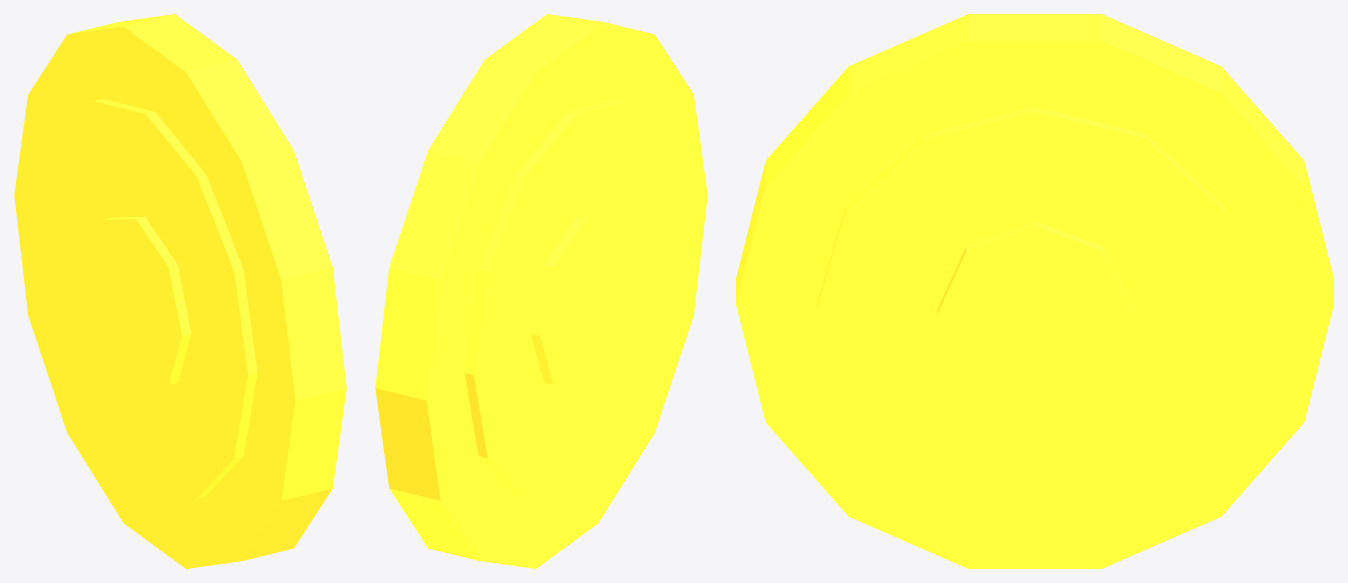
File: coin.glb
3 renders of one model, left to right at view 1: azimuth 30°, elevation 25°; view 2: azimuth 150°, elevation 25°; view 3: azimuth 270°, elevation 25°, orthographic. The views are drawn at different scales.
Visible parts, largest first — view 1: Coin; view 2: Coin; view 3: Coin.
Boxes of the visible parts, box(x1,y1,x2,y2) form: Coin: box(14, 14, 346, 568); Coin: box(375, 14, 707, 568); Coin: box(736, 14, 1333, 568).
Bounding box in the file's own units: 0.19 × 1.01 × 1.04.
